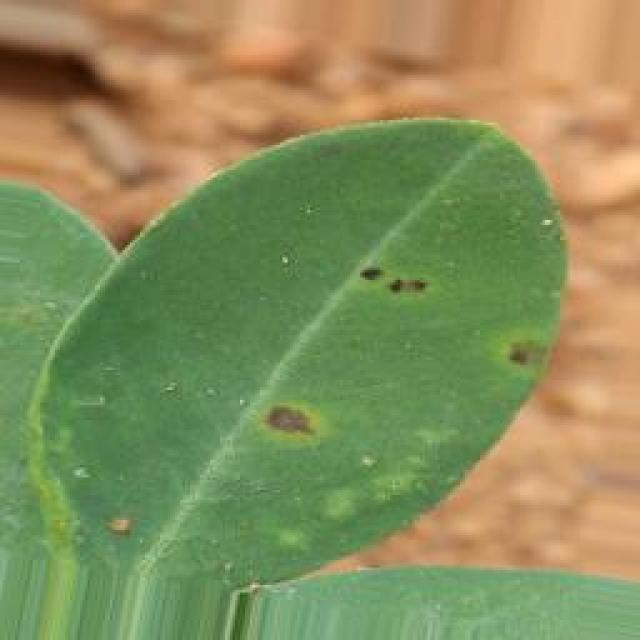Sigatoka: (38, 494, 190, 572), (351, 236, 472, 332), (229, 362, 322, 461), (458, 323, 538, 394)
